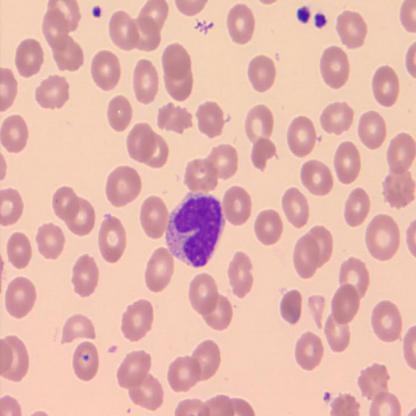Band Neutrophil: (164, 189, 226, 270)
